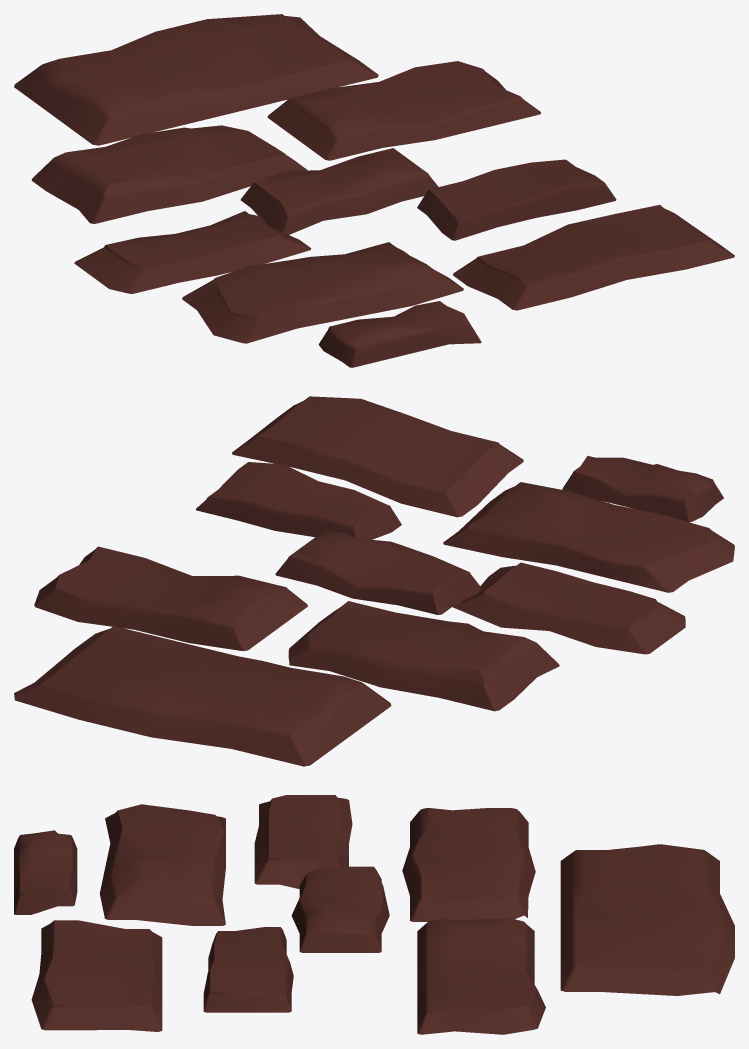
Rendered from SM_ground_stone.fbx.
3 views of the same model, one above another, from view 1: azimuth 30°, elevation 25°; view 2: azimuth 150°, elevation 25°; view 3: azimuth 270°, elevation 25° (orthographic). The views are drawn at different scales.
Visible parts, largest first — view 1: SM_ground_stone; view 2: SM_ground_stone; view 3: SM_ground_stone.
Boxes of the visible parts, x1,y1,x2,y2 form: SM_ground_stone: [14, 14, 734, 367]; SM_ground_stone: [14, 396, 734, 766]; SM_ground_stone: [14, 795, 734, 1034].
Bounding box in the file's own units: 276 × 19.73 × 358.
